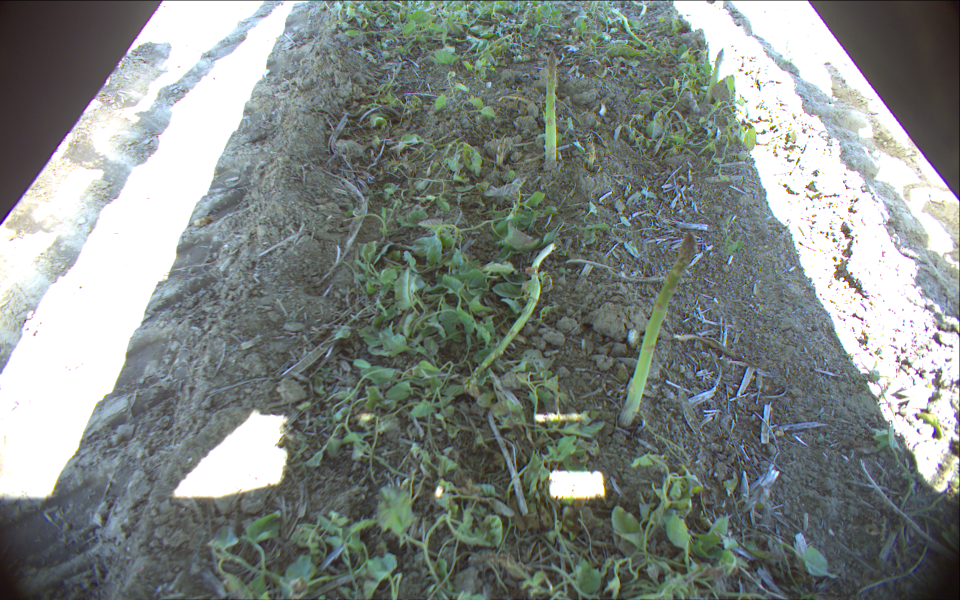aspa: (613, 229, 698, 429), (542, 48, 563, 170)
